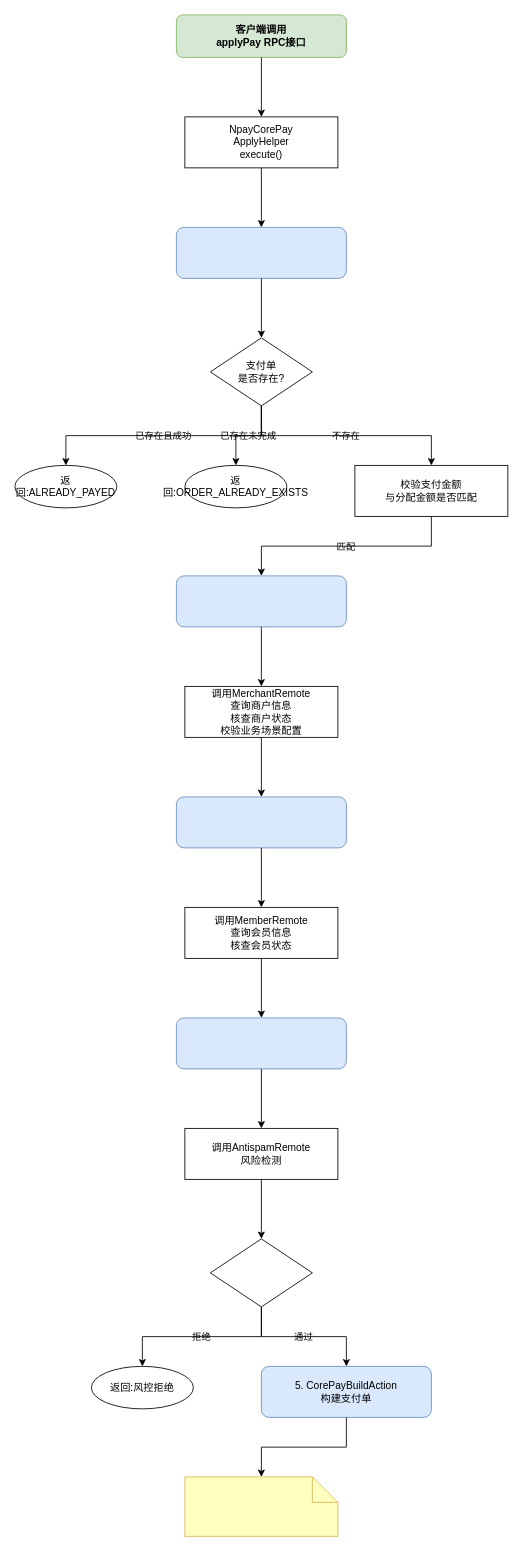
Image size: 523x1551. Some labels were removed from this diagram. The shapes that lost their labels are listed below. From the top down, each one's box as (x1, y1, x2, y2) in pixels, then its label:
(176, 227, 346, 278): 1. CorePayCheckBizAction 核心支付单校验
(176, 575, 346, 627): 2. MerchantCheckBizAction 商户校验
(176, 796, 346, 848): 3. MemberCheckBizAction 会员校验
(176, 1017, 346, 1069): 4. PayAntispamCheckBizAction 风控校验
(210, 1238, 312, 1307): 风控 是否通过?
(184, 1476, 338, 1536): 生成支付单ID 构建CorePay对象 构建CorePayRecord列表
